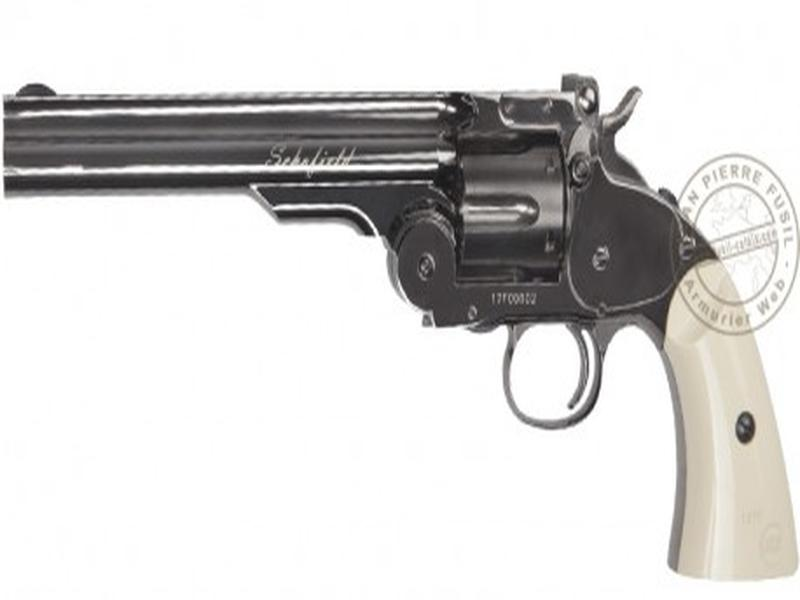Revolver: (4, 71, 800, 586)
